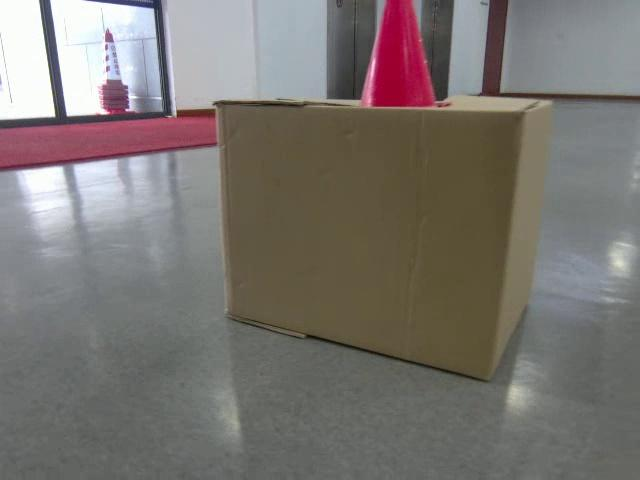red_barrel: (361, 2, 441, 108)
